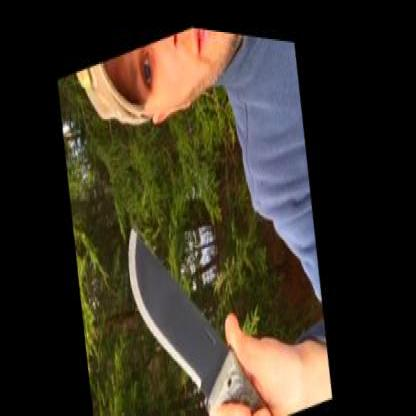knife: (105, 137, 305, 414)
